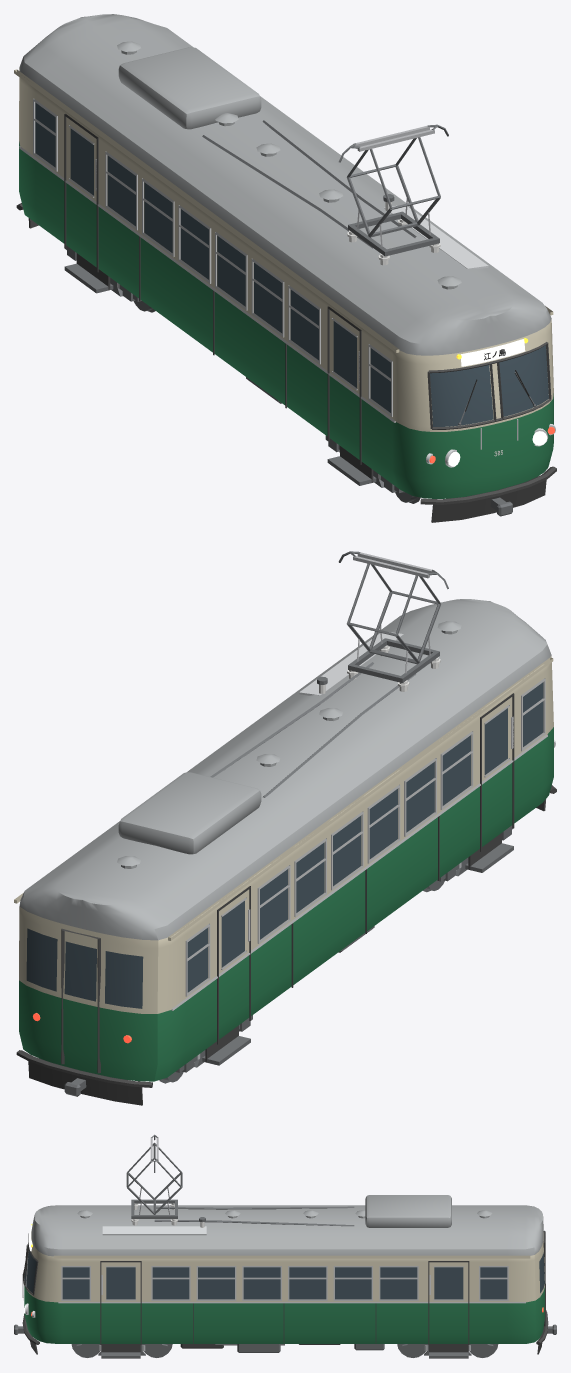
Rendered from enoden.glb.
3 views of the same model, one above another, from view 1: azimuth 30°, elevation 25°; view 2: azimuth 150°, elevation 25°; view 3: azimuth 270°, elevation 25° (orthographic). The views are drawn at different scales.
Parts seen in each view (by area): view 1: enoden_body; view 2: enoden_body; view 3: enoden_body.
Part boxes in pixels (box(x1,y1,x2,y2)): enoden_body: box(14, 14, 556, 522); enoden_body: box(14, 551, 556, 1105); enoden_body: box(14, 1134, 556, 1358).
Size of what is drawn, in the model's own units: 2.6 by 5.03 by 12.5.
